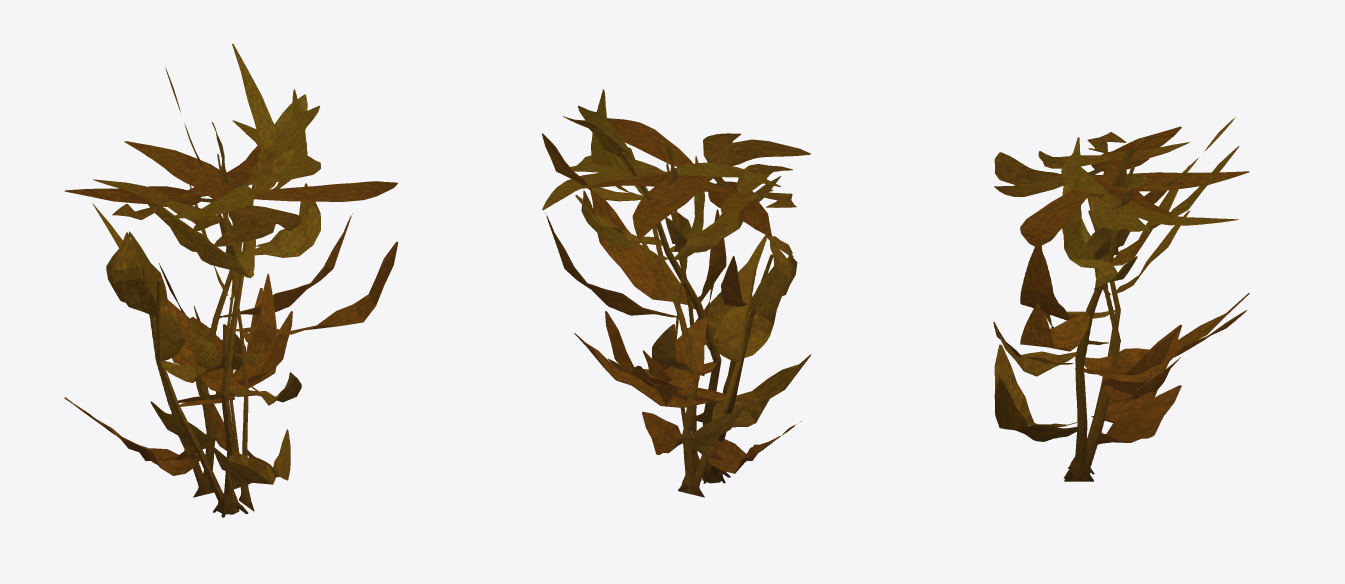
File: Alga-01-Kelp-de-Bronze.glb
3 renders of one model, left to right at view 1: azimuth 30°, elevation 25°; view 2: azimuth 150°, elevation 25°; view 3: azimuth 270°, elevation 25°, orthographic. The views are drawn at different scales.
Visible parts, largest first — view 1: Alga-01-Kelp-de-Bronze impostor, Colonia; view 2: Alga-01-Kelp-de-Bronze impostor, Colonia; view 3: Alga-01-Kelp-de-Bronze impostor, Colonia.
Part boxes in pixels (x1=…): Alga-01-Kelp-de-Bronze impostor: x1=64, y1=66, x2=397, y2=511; Colonia: x1=64, y1=43, x2=398, y2=517; Alga-01-Kelp-de-Bronze impostor: x1=542, y1=89, x2=810, y2=497; Colonia: x1=542, y1=116, x2=810, y2=483; Alga-01-Kelp-de-Bronze impostor: x1=994, y1=116, x2=1249, y2=481; Colonia: x1=993, y1=137, x2=1249, y2=478.
Size of what is drawn, in the model's own units: 2.64 by 2.64 by 2.64.
2 materials, 2 textured.
